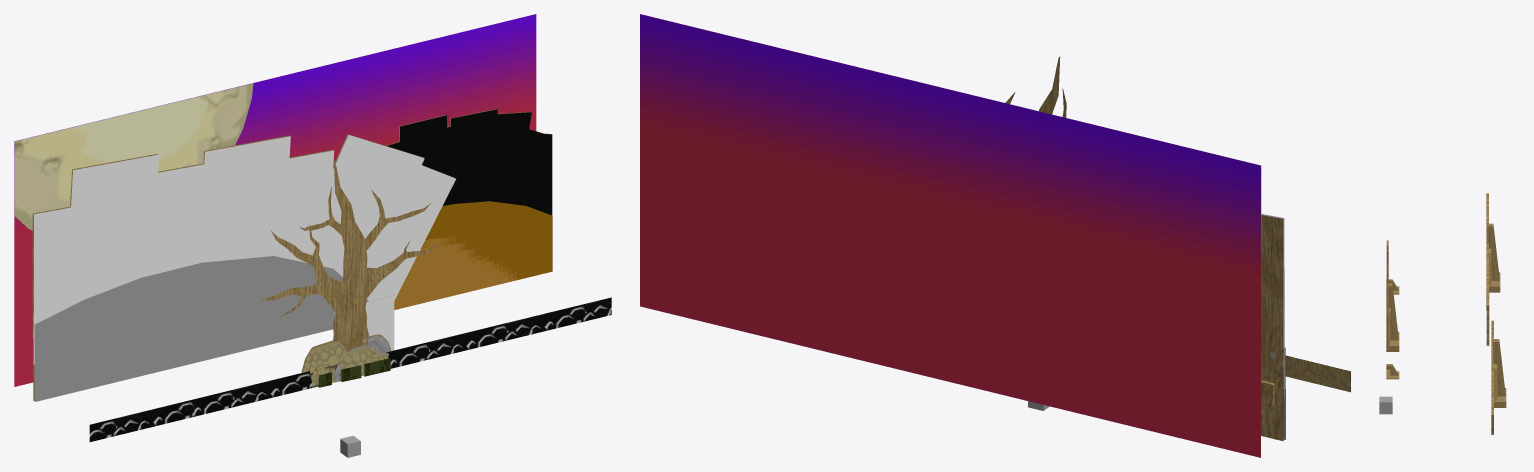
Rendered from creepleSteeple.gltf.
3 renders of one model, left to right at view 1: azimuth 30°, elevation 25°; view 2: azimuth 150°, elevation 25°; view 3: azimuth 270°, elevation 25°, orthographic. The views are drawn at different scales.
Parts seen in each view (by area): view 1: pPlane450_q00157, polySurface972_q00103, pCylinder27_q00156, polySurface963_q00136, polySurface953_q00091, polySurface953_q00088, polySurface959_q00037, polySurface953_q00094, polySurface1267_q00029_part1, polySurface953_q00093, polySurface953_q00089, polySurface953_q00092 (+18 smaller); view 2: pPlane450_q00157, polySurface953_q00112, polySurface959_q00036, polySurface972_q00126; view 3: pCube24_q00082, pCube24_q00079, pCube24_q00027, polySurface1250_q00085, polySurface1253_q00028, polySurface1250_q00086, pCube25_q00000, polySurface1250_q00087, pCube22_q00025.
Boxes of the visible parts, box(x1,y1,x2,y2) form: pPlane450_q00157: box(14, 14, 536, 386); polySurface972_q00103: box(34, 256, 368, 401); pCylinder27_q00156: box(14, 83, 253, 230); polySurface963_q00136: box(394, 201, 552, 309); polySurface953_q00091: box(68, 154, 158, 302); polySurface953_q00088: box(243, 150, 334, 266); polySurface959_q00037: box(89, 297, 611, 441); polySurface953_q00094: box(326, 150, 455, 301); polySurface1267_q00029_part1: box(261, 160, 442, 351); polySurface953_q00093: box(322, 135, 424, 276); polySurface953_q00089: box(126, 162, 214, 274); polySurface953_q00092: box(201, 136, 290, 259); pPlane450_q00157: box(640, 14, 1260, 457); polySurface953_q00112: box(1261, 215, 1283, 367); polySurface959_q00036: box(1285, 356, 1350, 392); polySurface972_q00126: box(1261, 349, 1283, 441); pCube24_q00082: box(1493, 339, 1505, 396); pCube24_q00079: box(1487, 223, 1499, 280); pCube24_q00027: box(1386, 283, 1398, 340); polySurface1250_q00085: box(1491, 320, 1493, 434); polySurface1253_q00028: box(1386, 240, 1388, 345); polySurface1250_q00086: box(1486, 193, 1488, 309); pCube25_q00000: box(1379, 396, 1392, 414); polySurface1250_q00087: box(1486, 293, 1489, 345); pCube22_q00025: box(1386, 332, 1399, 351).
Size of what is drawn, in the model's own units: 40.04 by 23.5 by 10.5.
30 materials, 28 textured.
